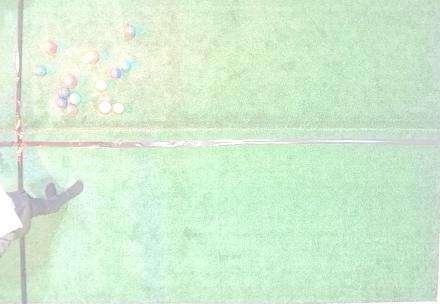blue: (110, 68, 121, 79), (57, 98, 67, 108)
green: (69, 92, 81, 104), (124, 25, 135, 37), (58, 87, 69, 97), (121, 61, 131, 71), (36, 66, 46, 75)
red: (44, 40, 57, 53), (64, 75, 78, 87), (99, 101, 111, 114), (87, 50, 99, 62), (66, 104, 78, 115)
vline: (1, 1, 24, 189), (1, 236, 28, 303), (434, 1, 439, 303)
white: (85, 58, 89, 63)
yellow: (113, 103, 124, 113), (96, 80, 106, 90)
